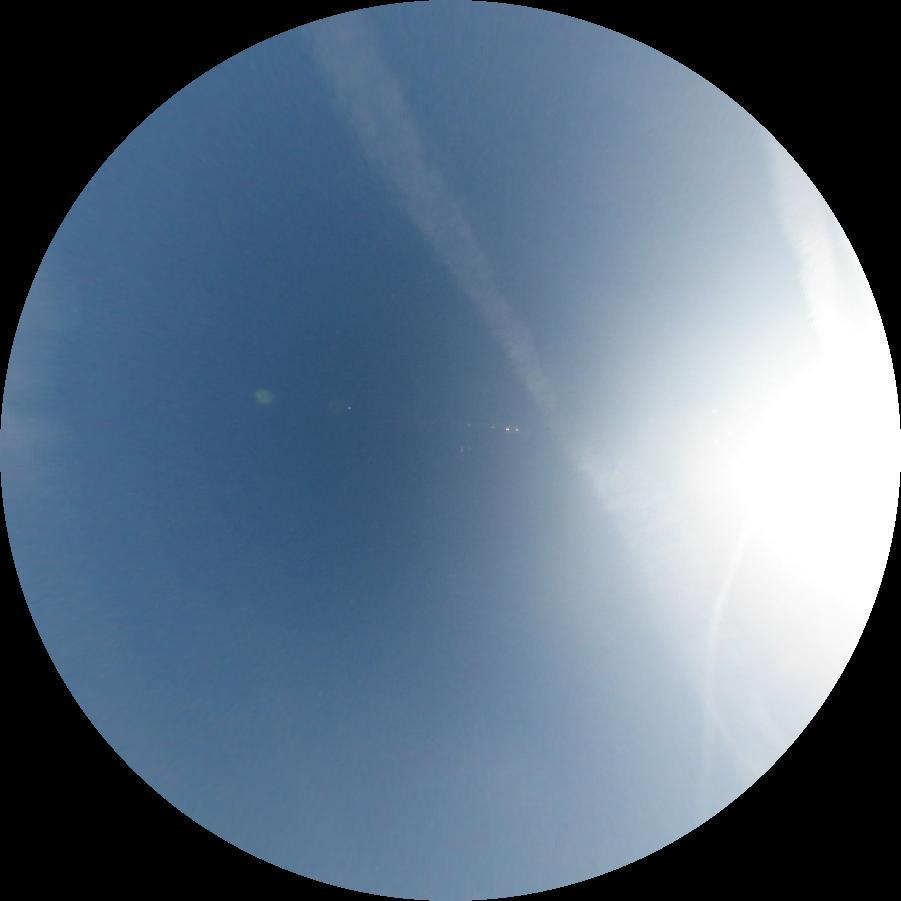contrail old: (680, 512, 758, 824)
contrail veryold: (749, 120, 864, 353)
